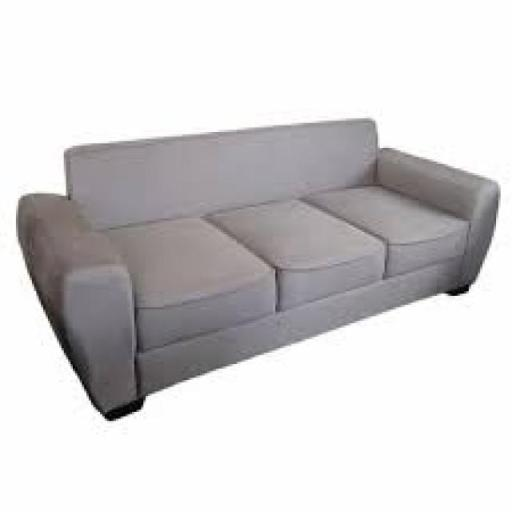sofa: (9, 94, 512, 426)
